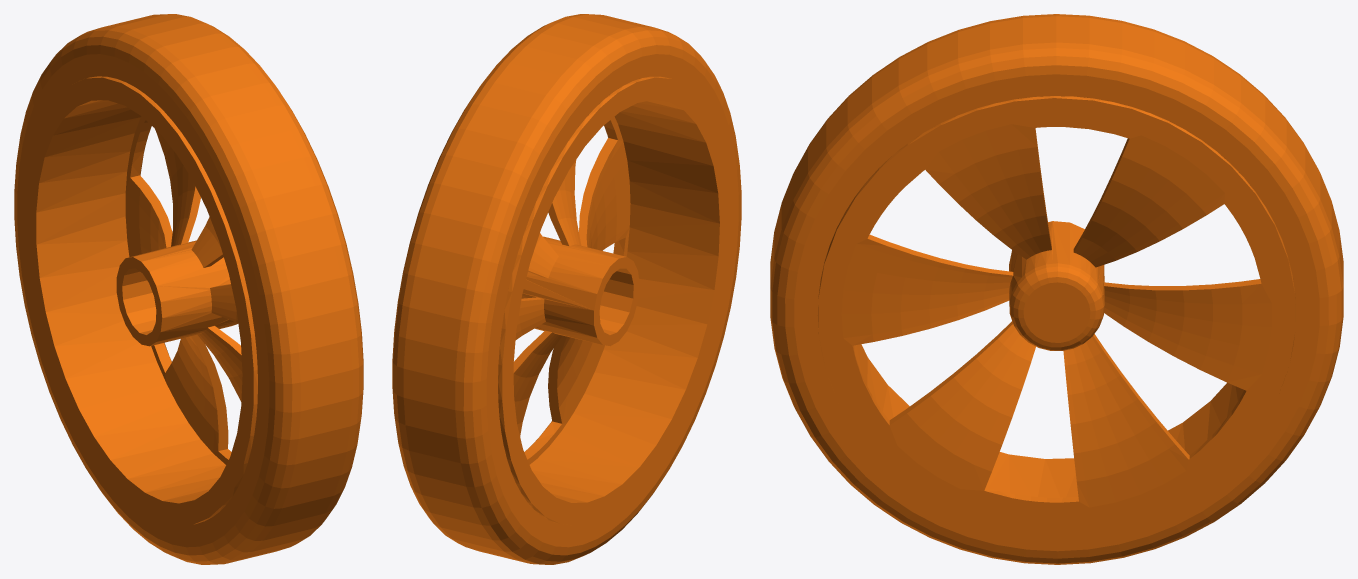
The model's file is Wheel2.dae.
3 views of the same model, side by side, from view 1: azimuth 30°, elevation 25°; view 2: azimuth 150°, elevation 25°; view 3: azimuth 270°, elevation 25° (orthographic). The views are drawn at different scales.
Visible parts, largest first — view 1: Wheel1; view 2: Wheel1; view 3: Wheel1.
Boxes of the visible parts, bbox=[...] form: Wheel1: bbox=[14, 14, 363, 564]; Wheel1: bbox=[392, 14, 741, 564]; Wheel1: bbox=[770, 14, 1343, 564].
Size of the model in its own units: 0.025 by 0.1198 by 0.12.
